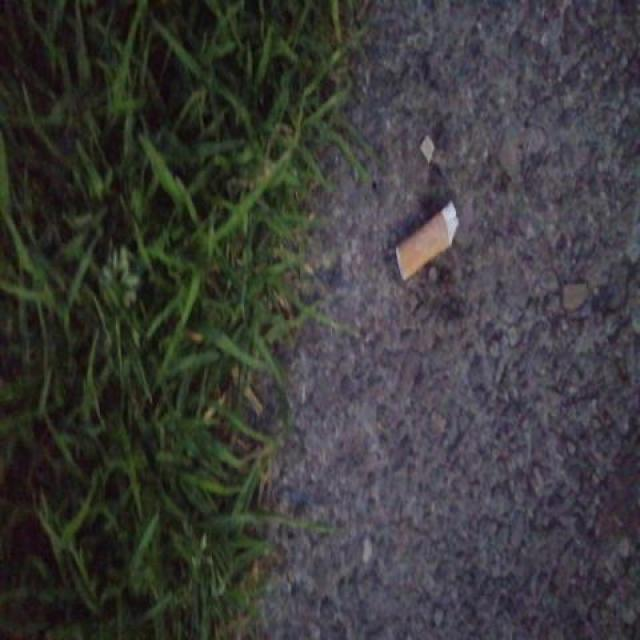non-organic waste: (390, 195, 462, 289)
